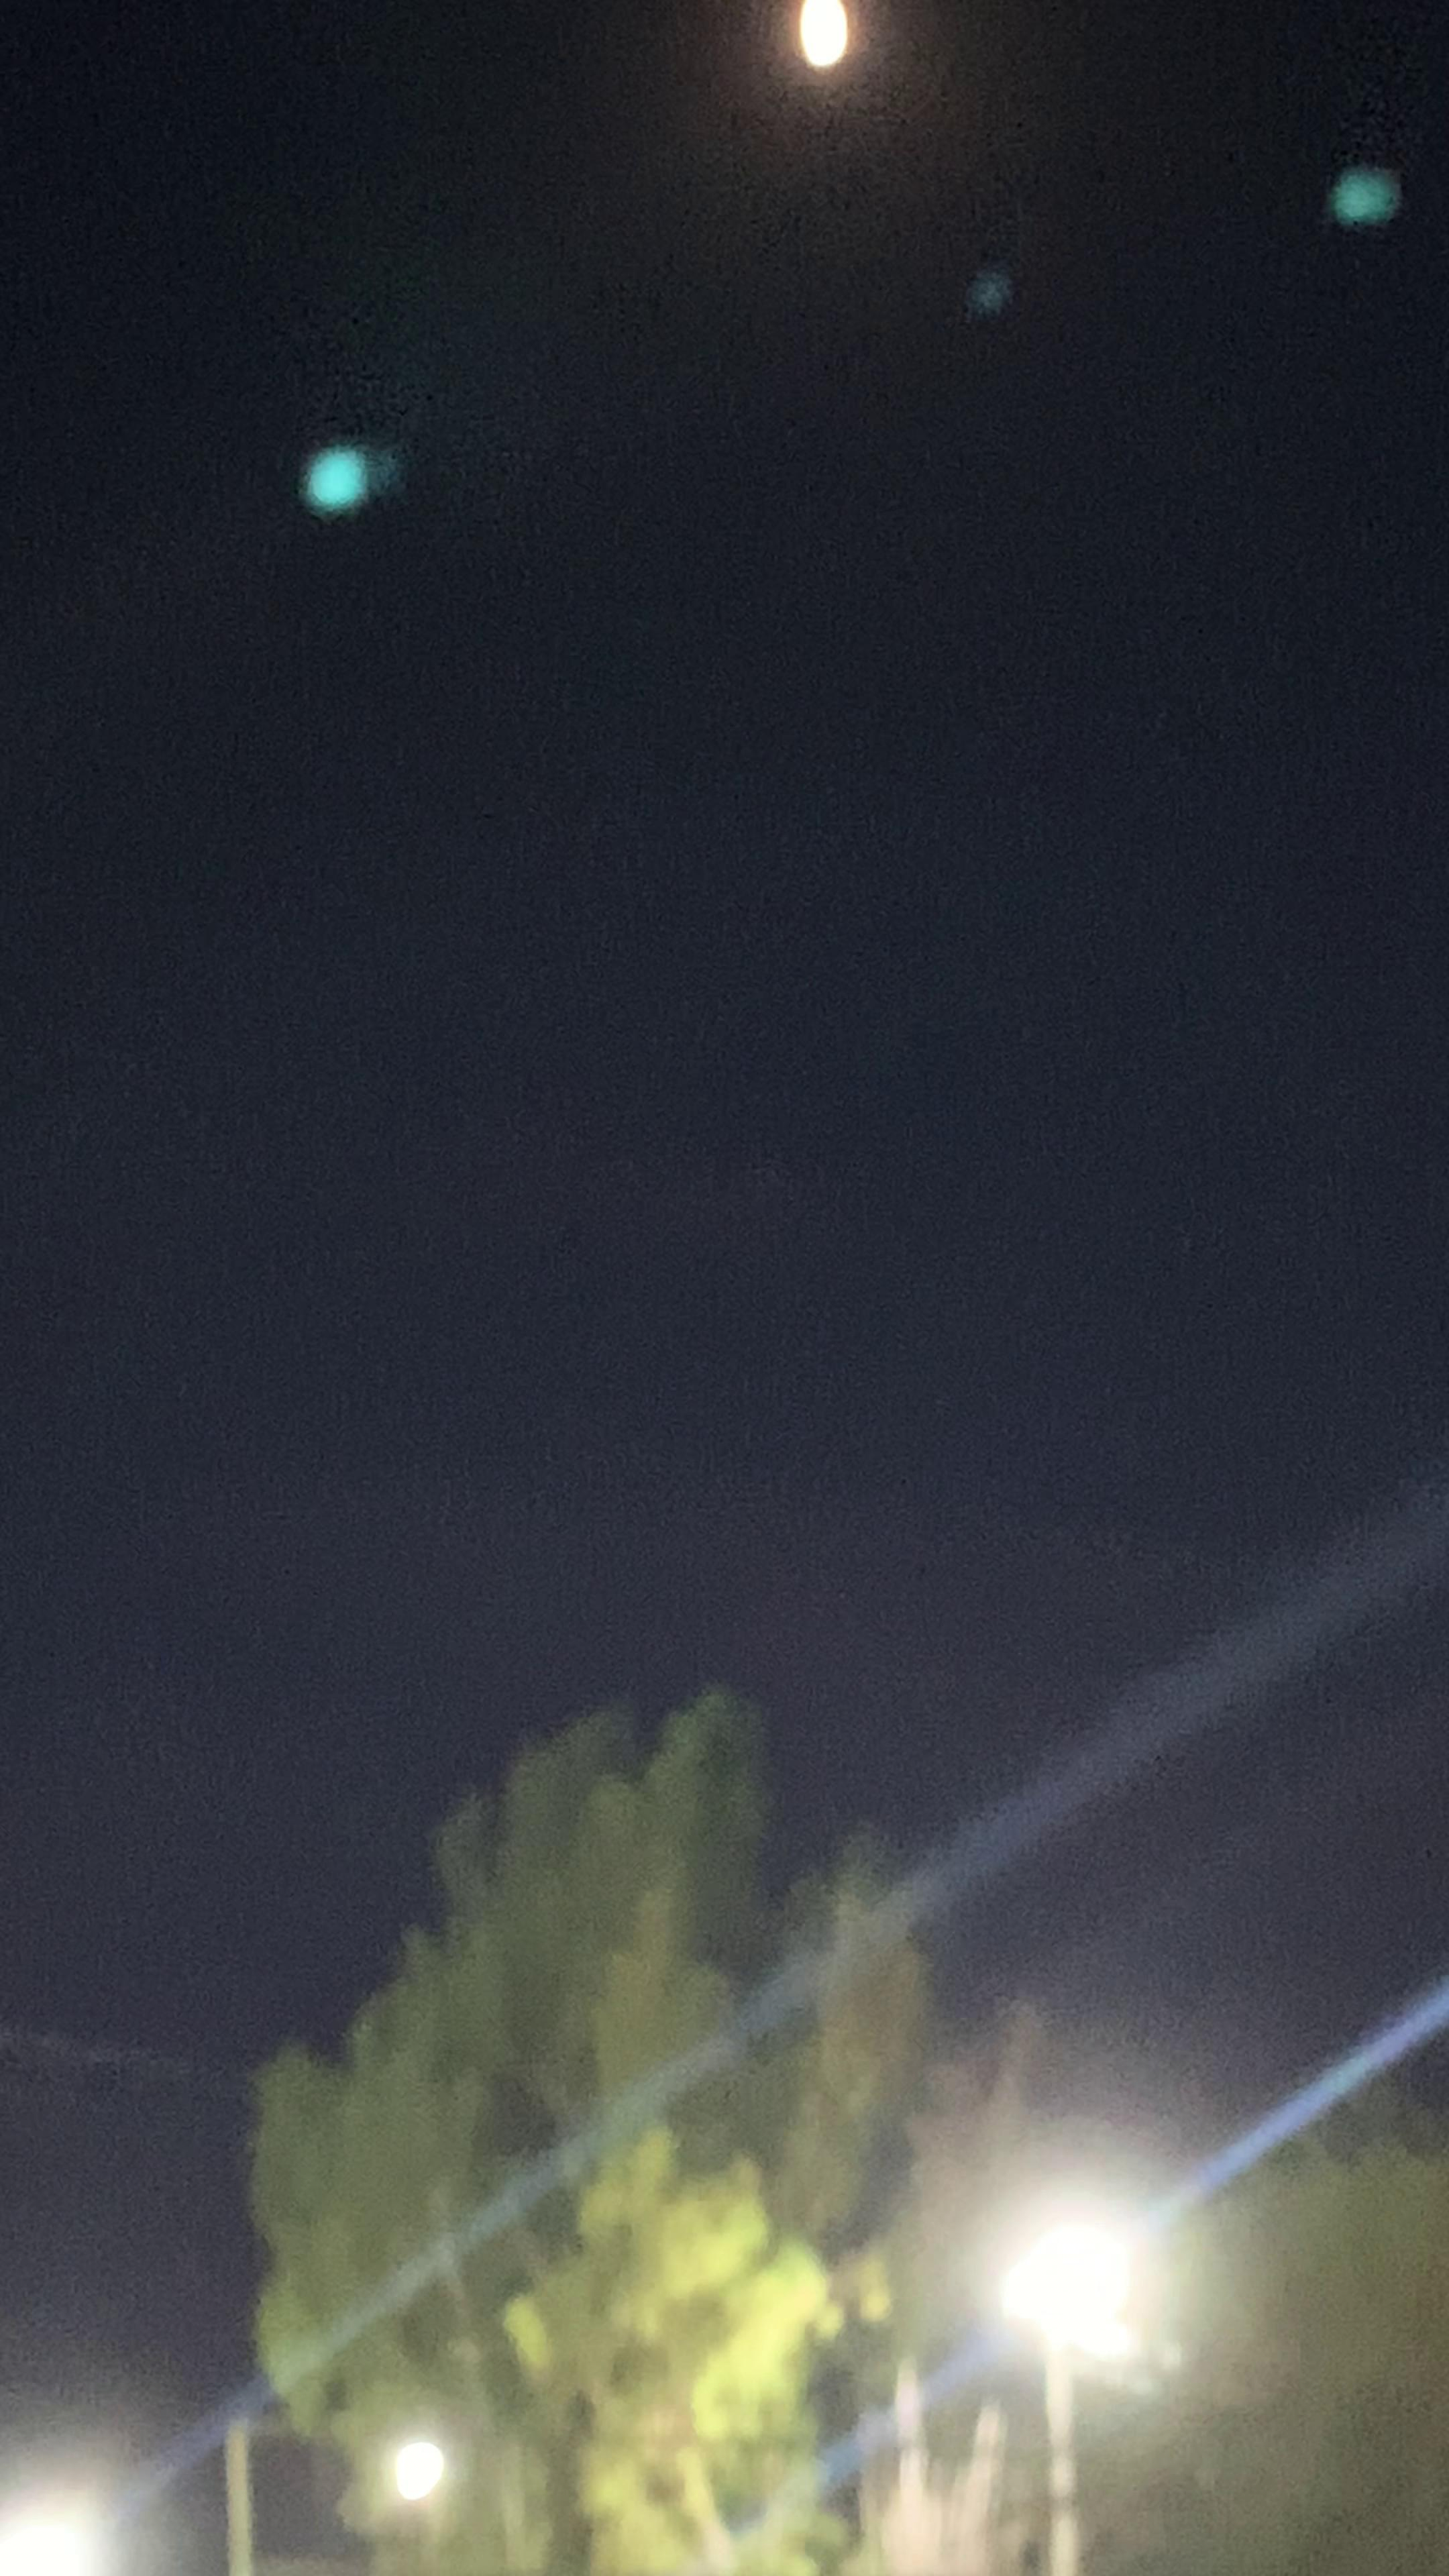moon: (752, 0, 886, 108)
